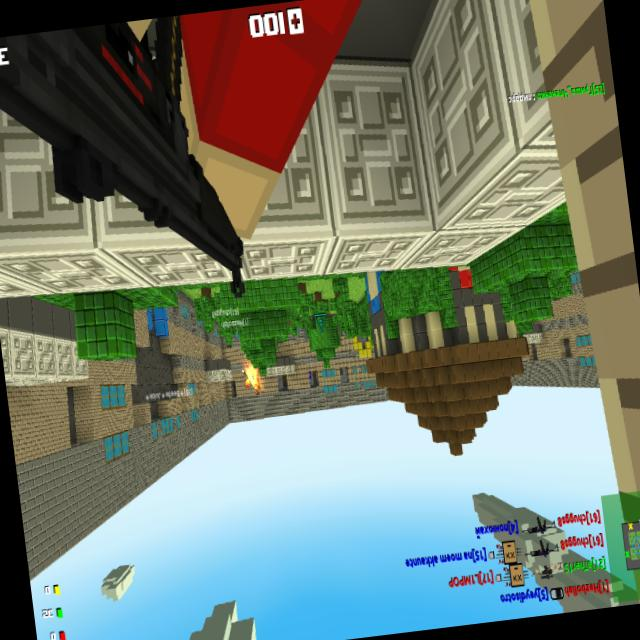enemy: (308, 371, 311, 378)
